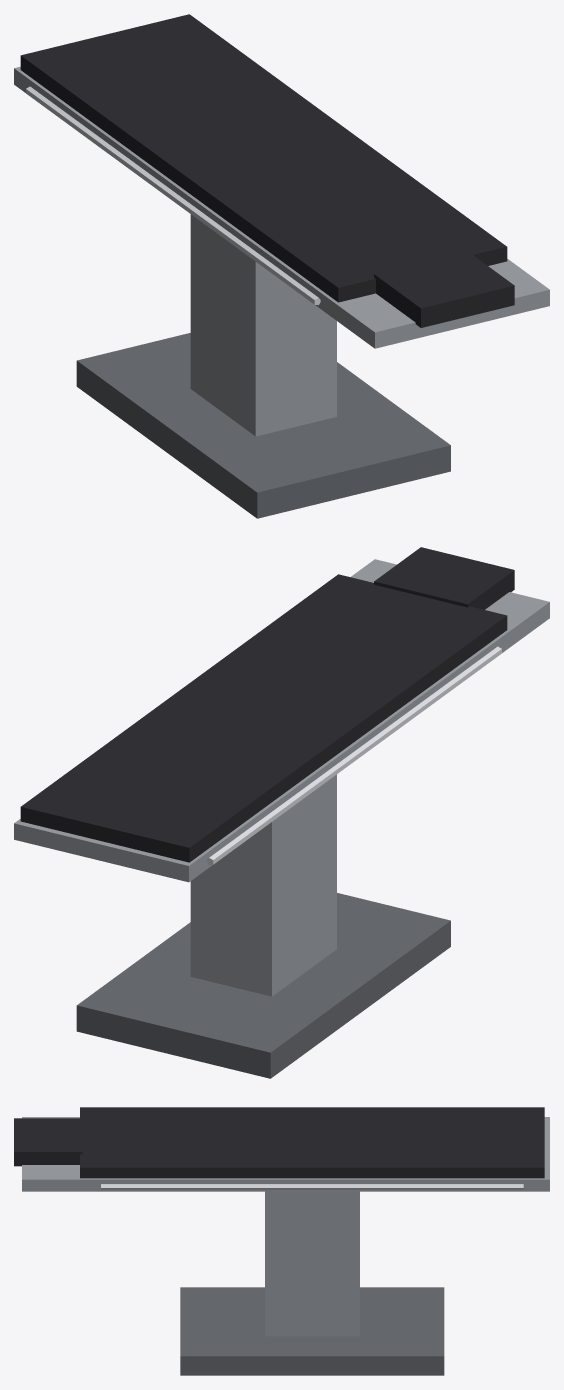
File: OpTable.obj
The picture shows the model from 3 angles, top to bottom: view 1: azimuth 30°, elevation 25°; view 2: azimuth 150°, elevation 25°; view 3: azimuth 270°, elevation 25°; orthographic projection. The views are drawn at different scales.
Parts seen in each view (by area): view 1: OpTable; view 2: OpTable; view 3: OpTable.
Part boxes in pixels (x1=…): OpTable: x1=14, y1=14, x2=549, y2=518; OpTable: x1=14, y1=547, x2=549, y2=1078; OpTable: x1=14, y1=1107, x2=549, y2=1375.
Bounding box in the file's own units: 0.62 × 0.86 × 2.03.
1 material, 1 textured.
